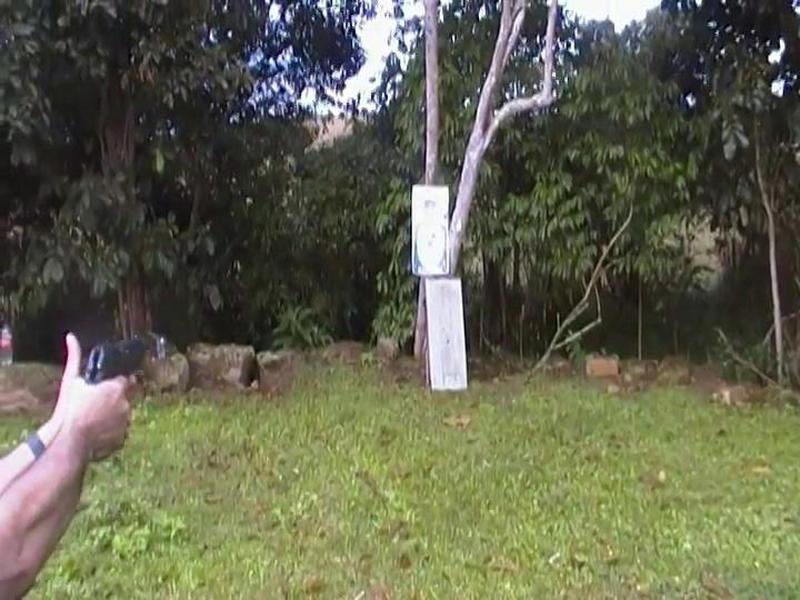Pistola: (68, 305, 173, 431)
